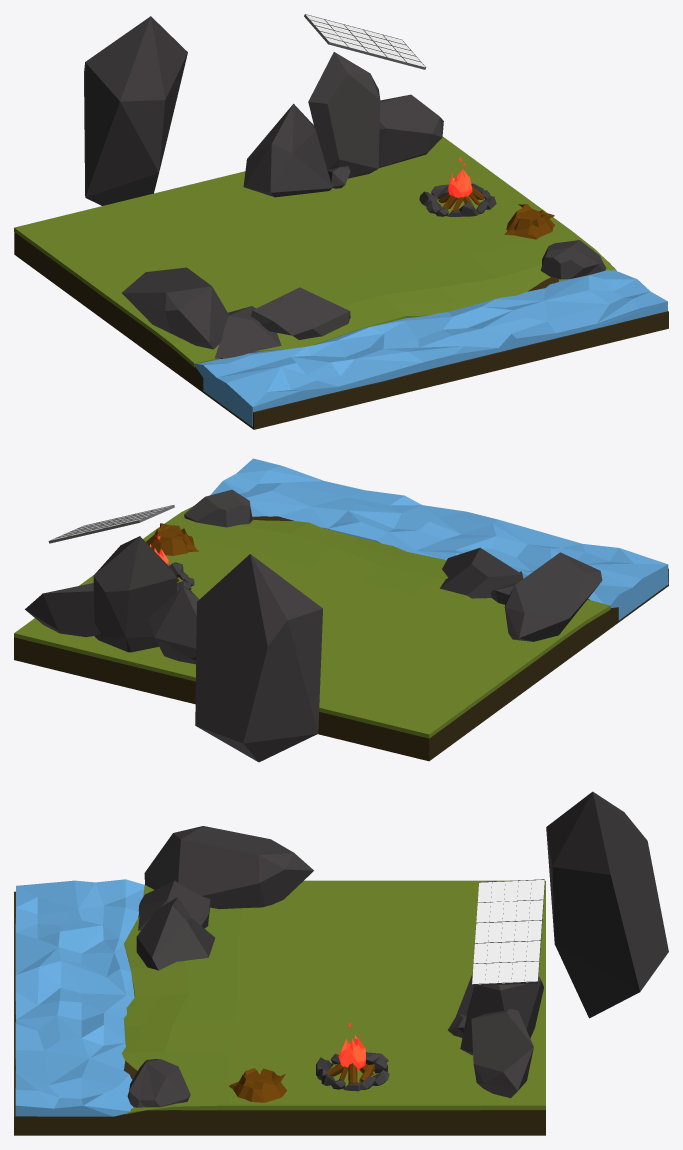
Rendered from testing1.glb.
3 views of the same model, one above another, from view 1: azimuth 30°, elevation 25°; view 2: azimuth 150°, elevation 25°; view 3: azimuth 270°, elevation 25° (orthographic). The views are drawn at different scales.
Visible parts, largest first — view 1: Rock2.007, Rock2.003, Rock2.001, Rock2.006, Rock_1.004, Rock2.005, Rock2.008, Cube.004, Rock, Campfire-rocks, Log Seat 2, Cube; view 2: Rock2.007, Rock2.006, Rock2.003, Rock2.001, Rock_1.004, Rock2.005, Rock2.008, Rock, Log Seat 2, Cube, Cube.004; view 3: Rock2.007, Rock2.003, Rock2.006, Rock_1.004, Rock2.005, Rock2.001, Cube.004, Rock2.008, Rock, Log Seat 2, Campfire-rocks, Cube (+2 smaller).
Part boxes in pixels (x1,y1,x2,y2): Rock2.007: (14,136,616,367); Rock2.003: (195,270,667,426); Rock2.001: (243,52,443,197); Rock2.006: (84,16,187,205); Rock_1.004: (122,267,350,358); Rock2.005: (14,240,668,429); Rock2.008: (14,232,668,414); Cube.004: (306,15,424,67); Rock: (540,240,606,279); Campfire-rocks: (419,183,496,216); Log Seat 2: (504,204,554,239); Cube: (304,14,426,69); Rock2.007: (14,506,610,738); Rock2.006: (195,554,322,762); Rock2.003: (210,458,668,620); Rock2.001: (25,536,199,664); Rock_1.004: (440,547,602,641); Rock2.005: (14,570,668,761); Rock2.008: (14,516,668,744); Rock: (184,489,252,527); Log Seat 2: (146,523,198,555); Cube: (48,505,174,543); Cube.004: (51,506,170,540); Rock2.007: (122,880,545,1114); Rock2.003: (15,879,144,1116); Rock2.006: (546,791,668,1018); Rock_1.004: (136,826,313,970); Rock2.005: (14,1117,545,1135); Rock2.001: (447,973,543,1098); Cube.004: (472,879,544,984); Rock2.008: (14,891,545,1119); Rock: (127,1059,190,1107); Log Seat 2: (229,1068,286,1102); Campfire-rocks: (316,1052,389,1091); Cube: (472,879,545,985).
Bounding box in the file's own units: 8.35 × 3.83 × 9.85.
